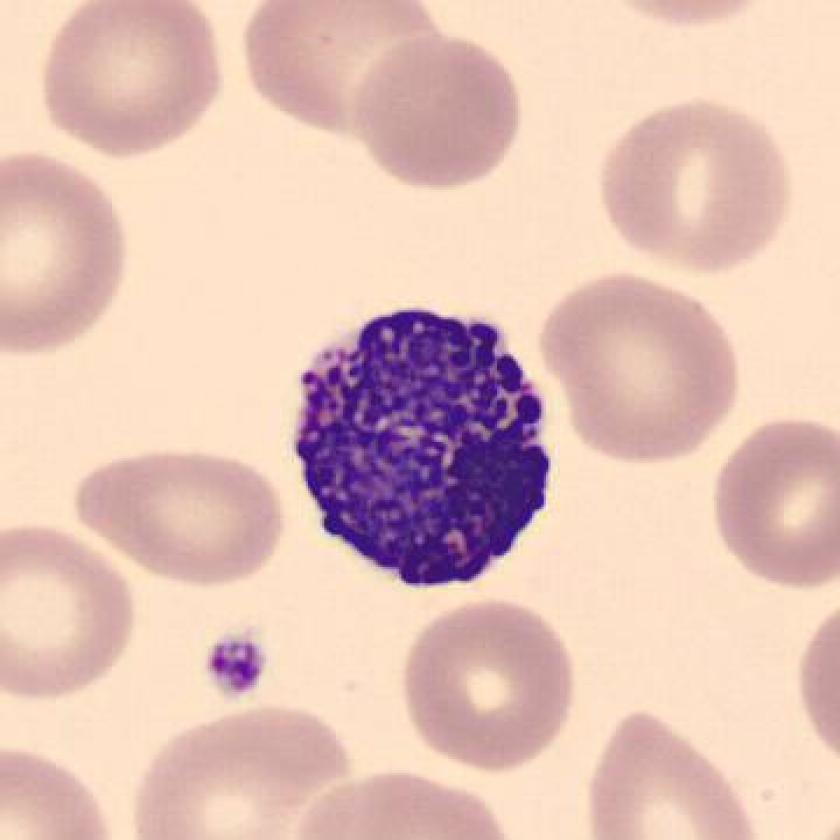basophil: (290, 295, 559, 607)
